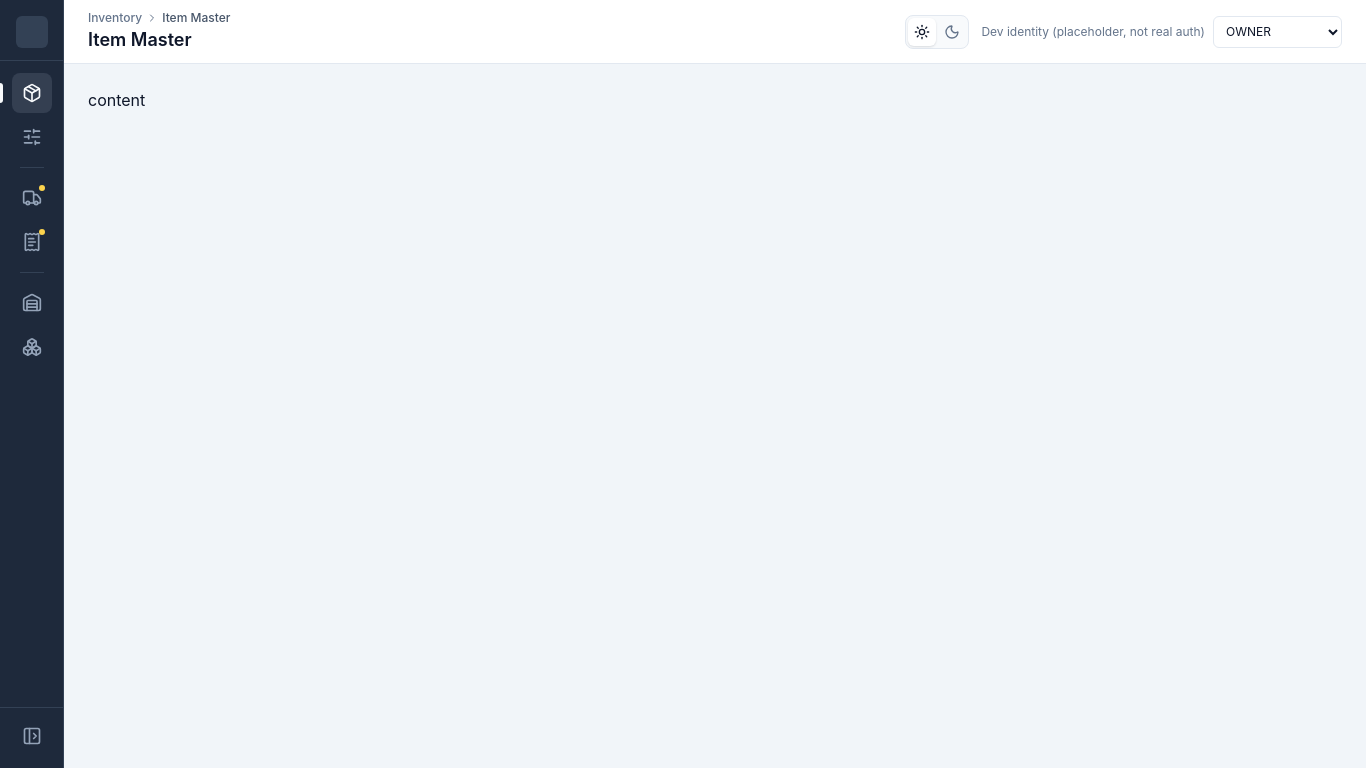
Scenario: AppShell — desktop with mouse (≥ 768px, hover) › pins from inside the peek as well
This screenshot has width=1366, height=768.
Step 1. Hover over the element named "Primary" → [32, 384], box [0,0,64,767]
Wait 150 ms
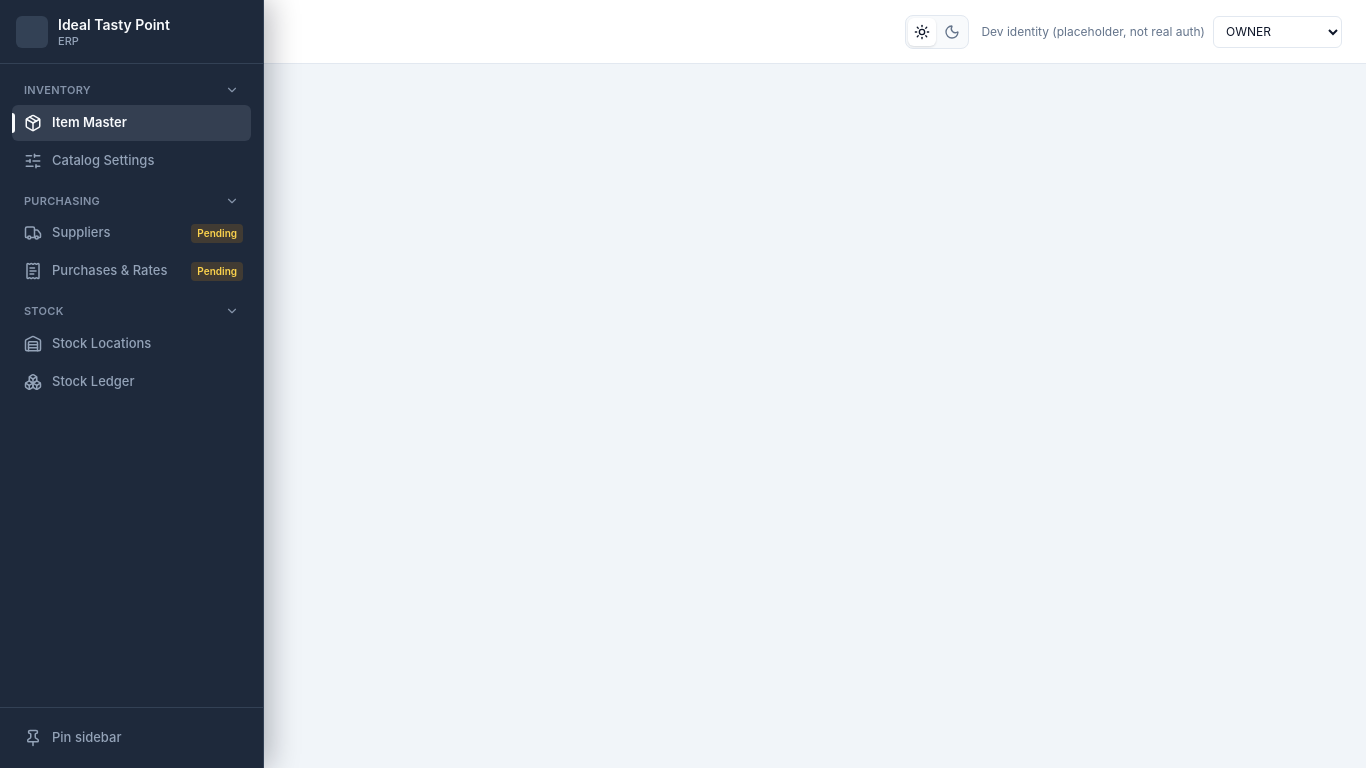
Step 2. Click the button "Pin sidebar" → [132, 738], box [12,720,251,756]
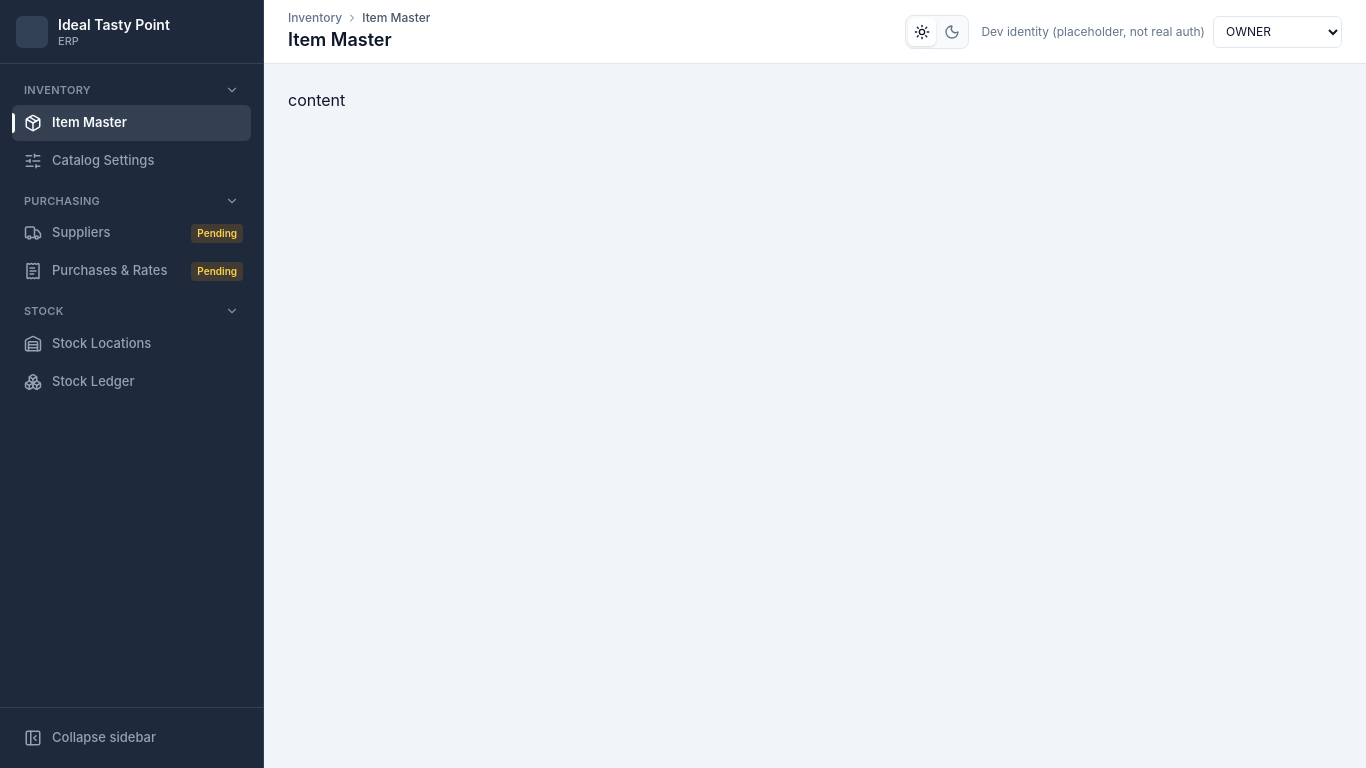
Expected: the button "Collapse sidebar" is shown, [12,720,251,756]
Expected: the element with test id "sidebar-peek" is gone
